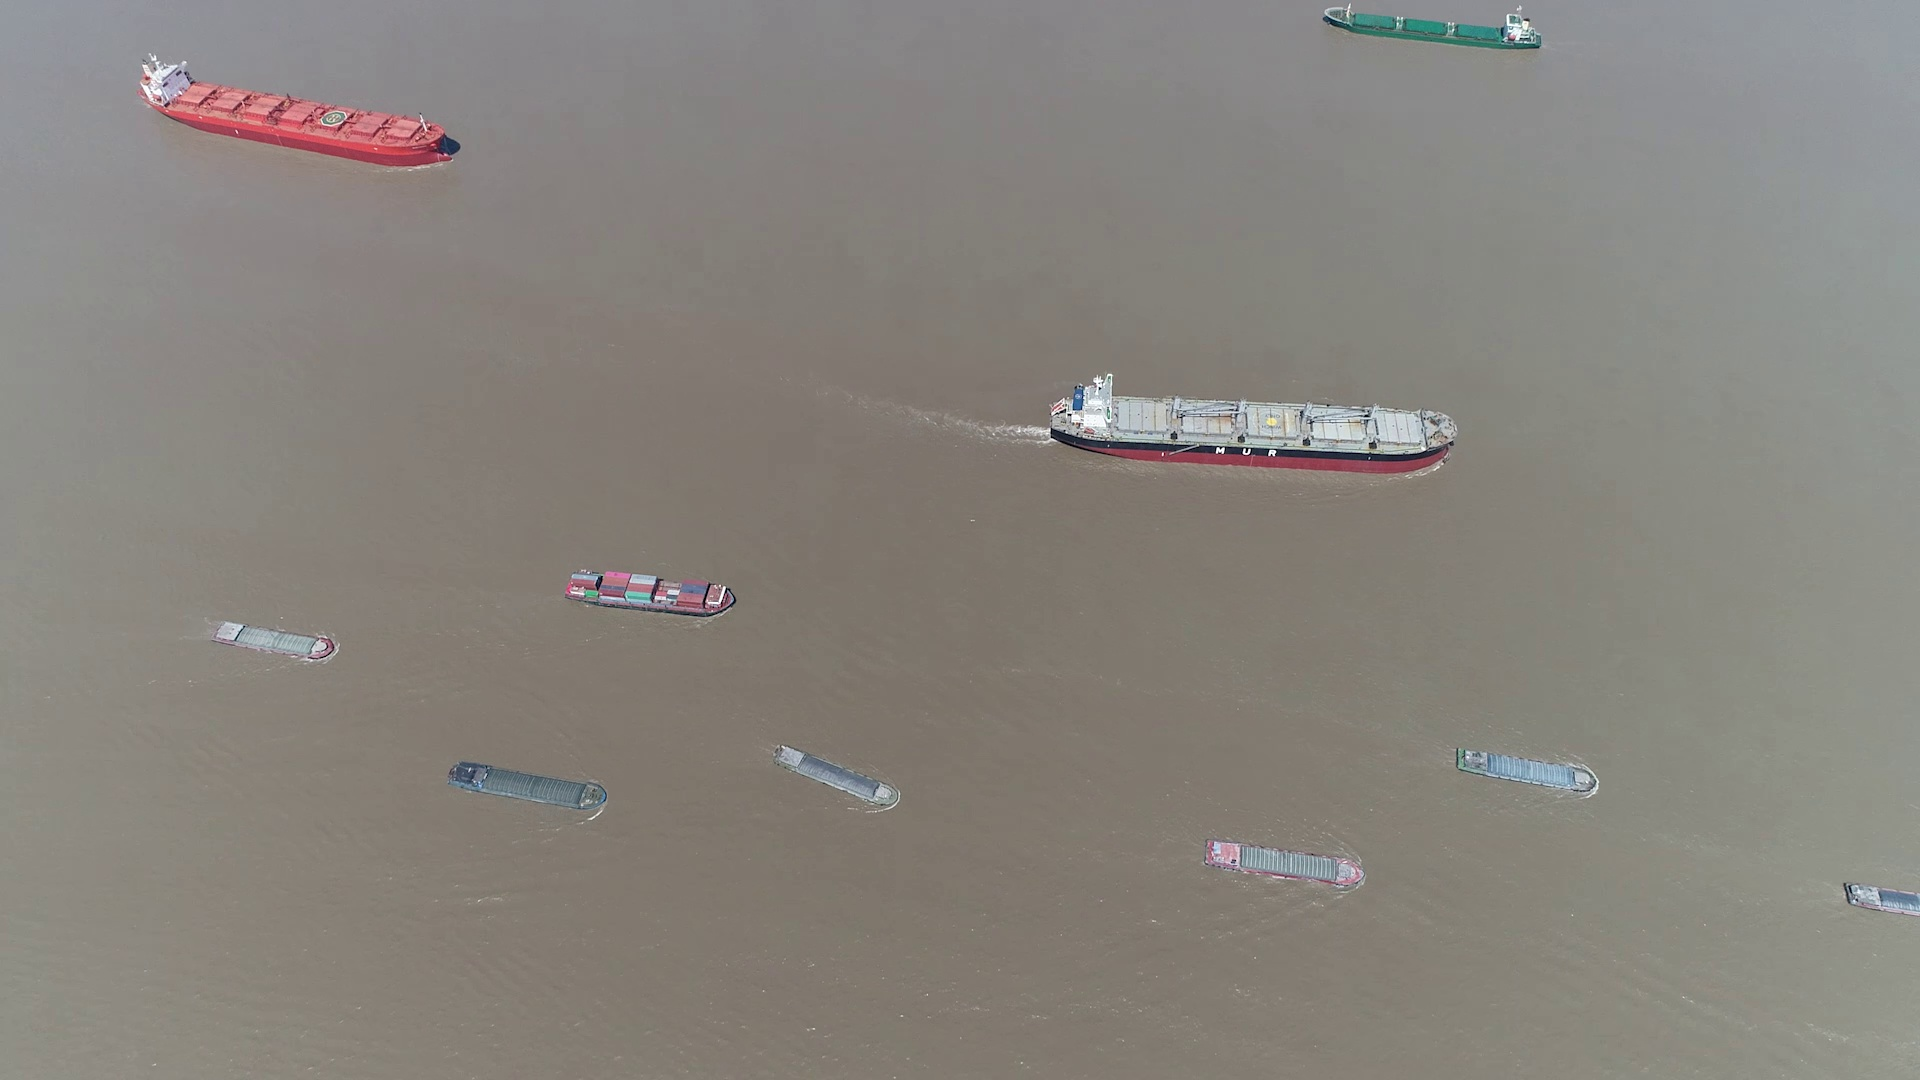ship: (1050, 382, 1458, 473), (141, 50, 456, 162), (1321, 9, 1542, 51), (448, 764, 609, 814), (564, 568, 737, 615), (777, 745, 898, 808), (1207, 840, 1367, 887), (1452, 749, 1600, 794), (214, 620, 338, 659), (1844, 880, 1919, 916)
